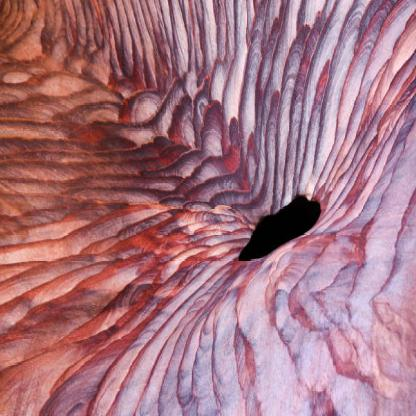Sedimentary_Sandstone: (1, 3, 415, 415)
